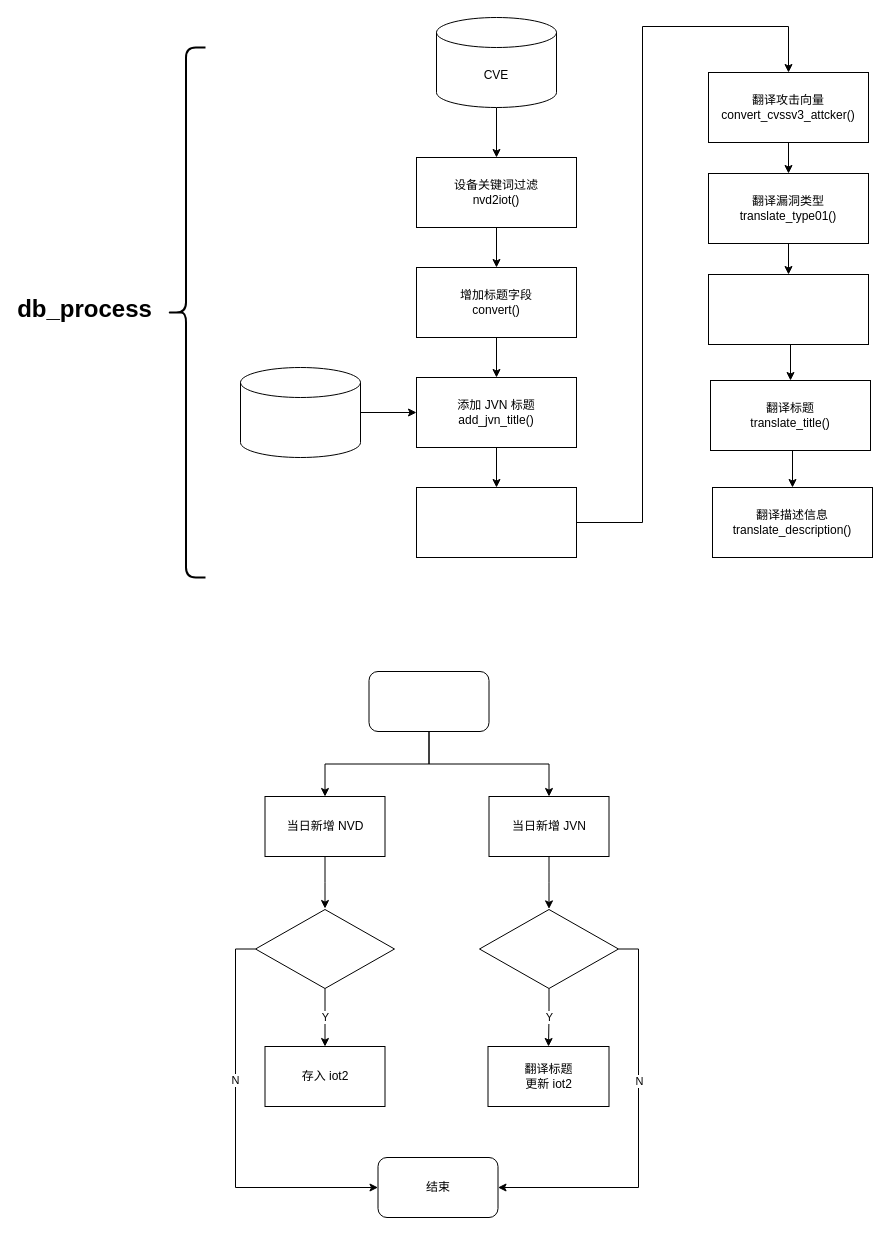
The diagram is 890 pixels wide and 1235 high, and some of its shapes have lost their labels. Each missing label, with the centre of its shape:
"cve_id 是否 存在于 iot2" belongs at point (548, 948).
"IoT 过滤" belongs at point (324, 948).
"JVN" belongs at point (300, 412).
"开始" belongs at point (428, 701).
"添加相关链接名作为标题 &&转换日期格式 add_reference_title()" belongs at point (496, 522).
"翻译危险级别 translate_severity()" belongs at point (788, 309).
